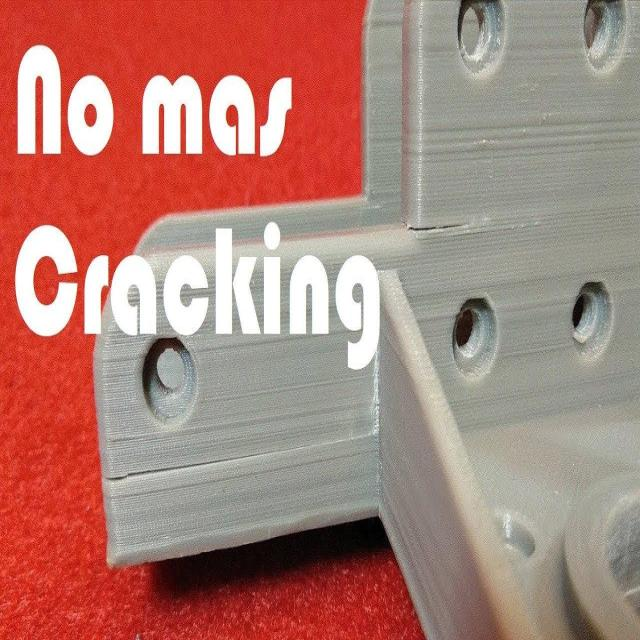cracking: (97, 450, 327, 509), (385, 196, 490, 255)
